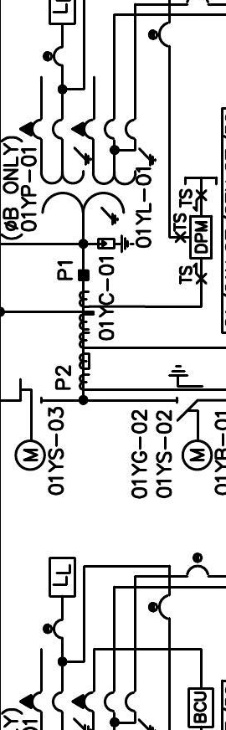115_1way_ds_w_motor: (13, 377, 47, 472)
115_3ways_ds_w_motor: (168, 364, 214, 472)
115_la: (97, 234, 135, 254)
115_vt_1p: (19, 117, 157, 226)
BCU: (187, 687, 215, 729)
DPM: (189, 215, 213, 260)
LL: (48, 556, 76, 598)
